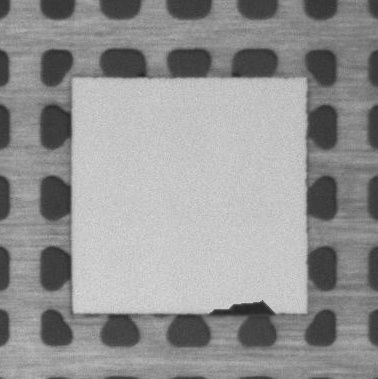DIE_BROKEN: (206, 300, 279, 318)
